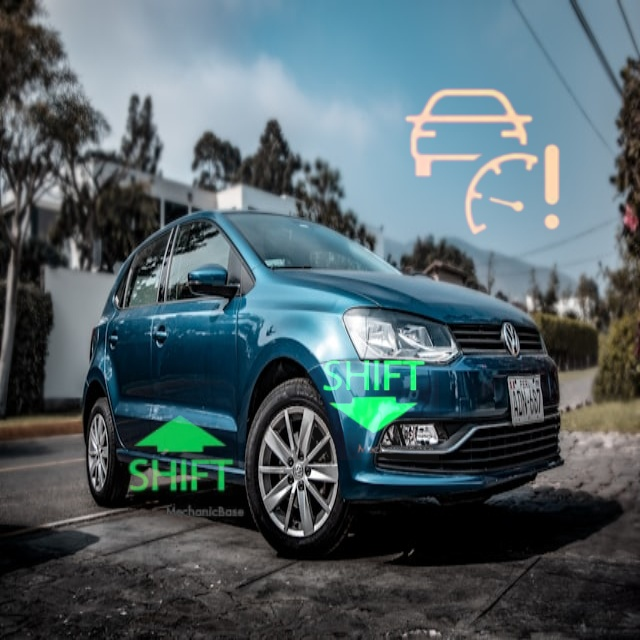symbol: (377, 58, 587, 268), (112, 386, 249, 523), (305, 326, 439, 460)
